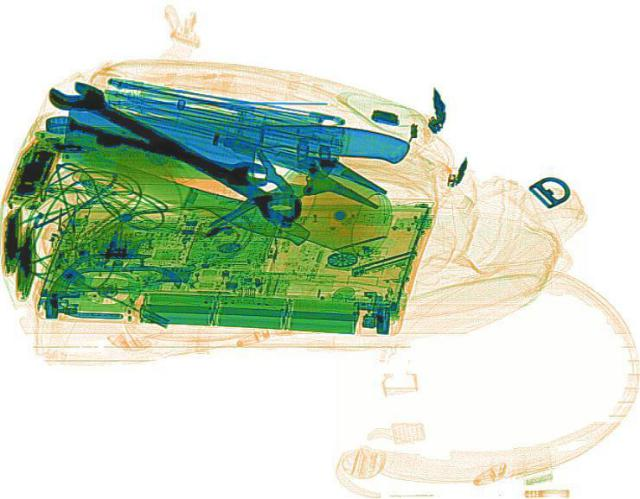Knife: (53, 86, 410, 206), (54, 133, 316, 250)
Wrench: (38, 71, 314, 228), (38, 112, 270, 187)
